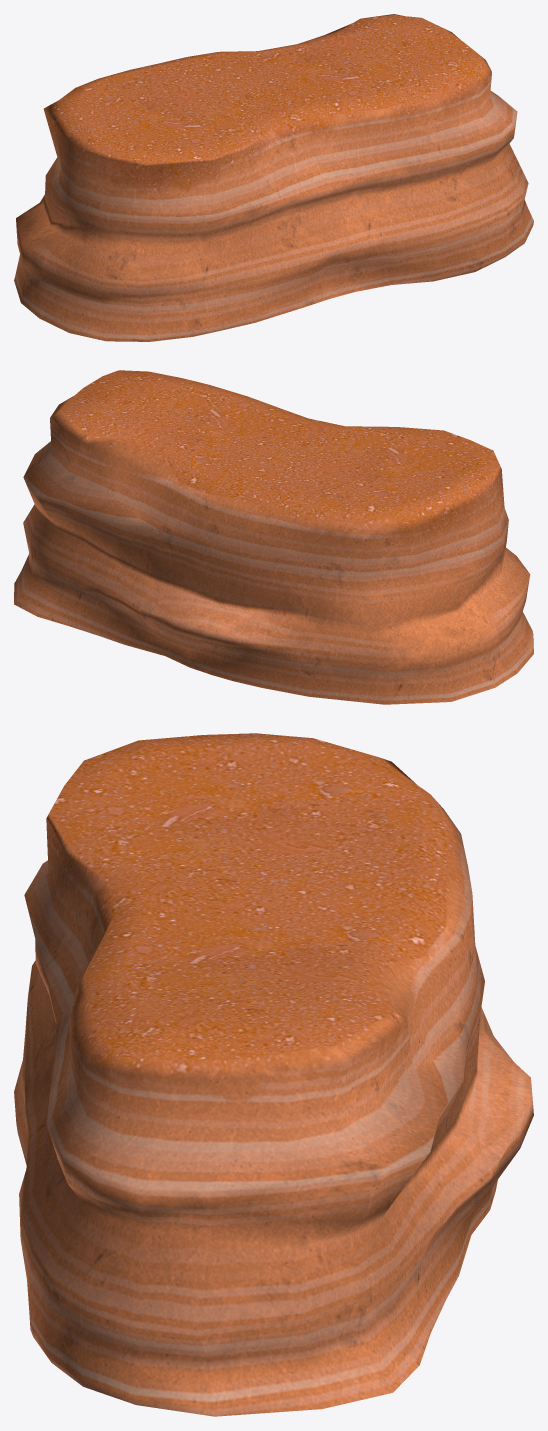
The model's file is SM_EnvPiece_01.fbx.
3 views of the same model, one above another, from view 1: azimuth 30°, elevation 25°; view 2: azimuth 150°, elevation 25°; view 3: azimuth 270°, elevation 25° (orthographic). The views are drawn at different scales.
Visible parts, largest first — view 1: SM_EnvPiece_01; view 2: SM_EnvPiece_01; view 3: SM_EnvPiece_01.
Part boxes in pixels (x1,y1,x2,y2): SM_EnvPiece_01: [14, 14, 533, 341]; SM_EnvPiece_01: [14, 370, 533, 704]; SM_EnvPiece_01: [14, 733, 533, 1416].
Bounding box in the file's own units: 2775 × 1033 × 1497.
